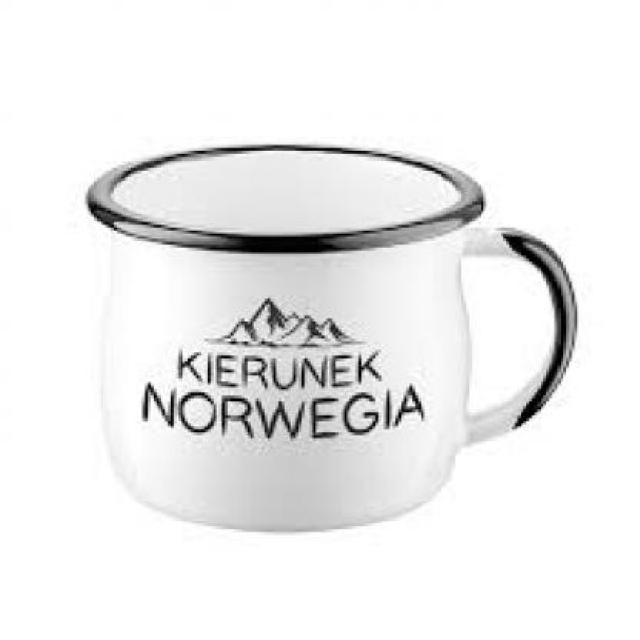cup: (69, 131, 592, 543)
